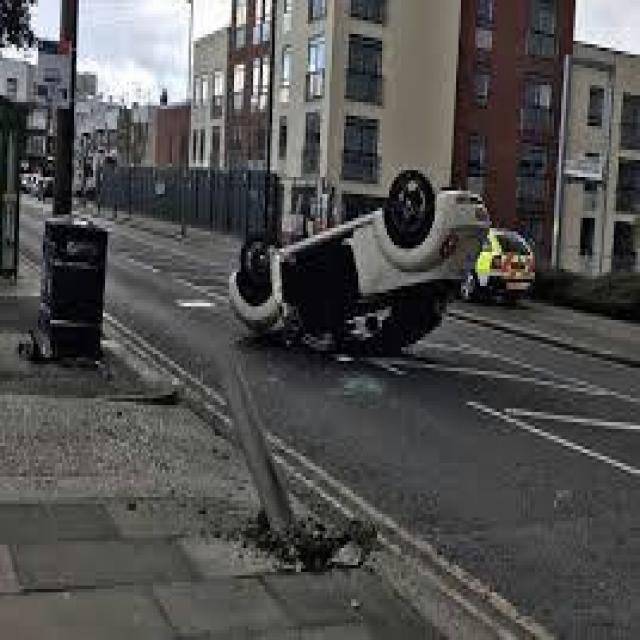severe: (226, 168, 494, 362)
